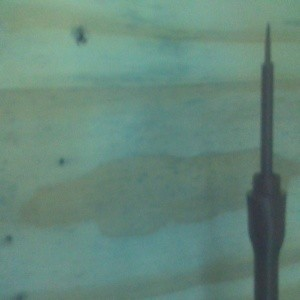solder: (244, 21, 289, 300)
